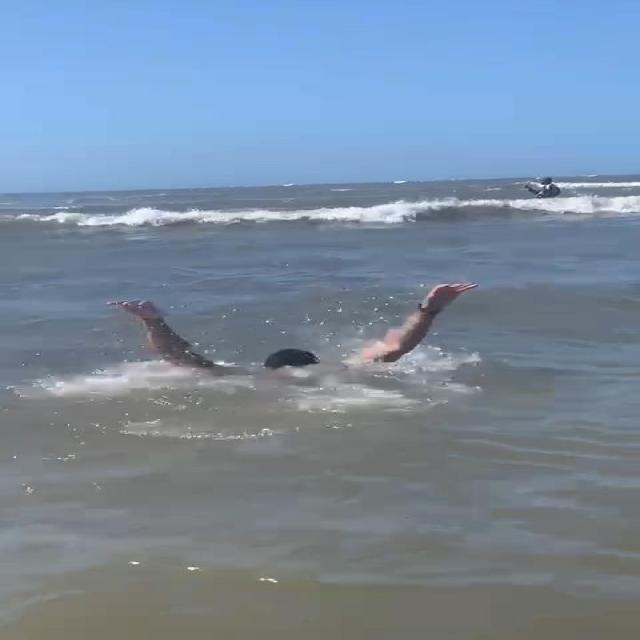Out of Water: (100, 277, 480, 377)
